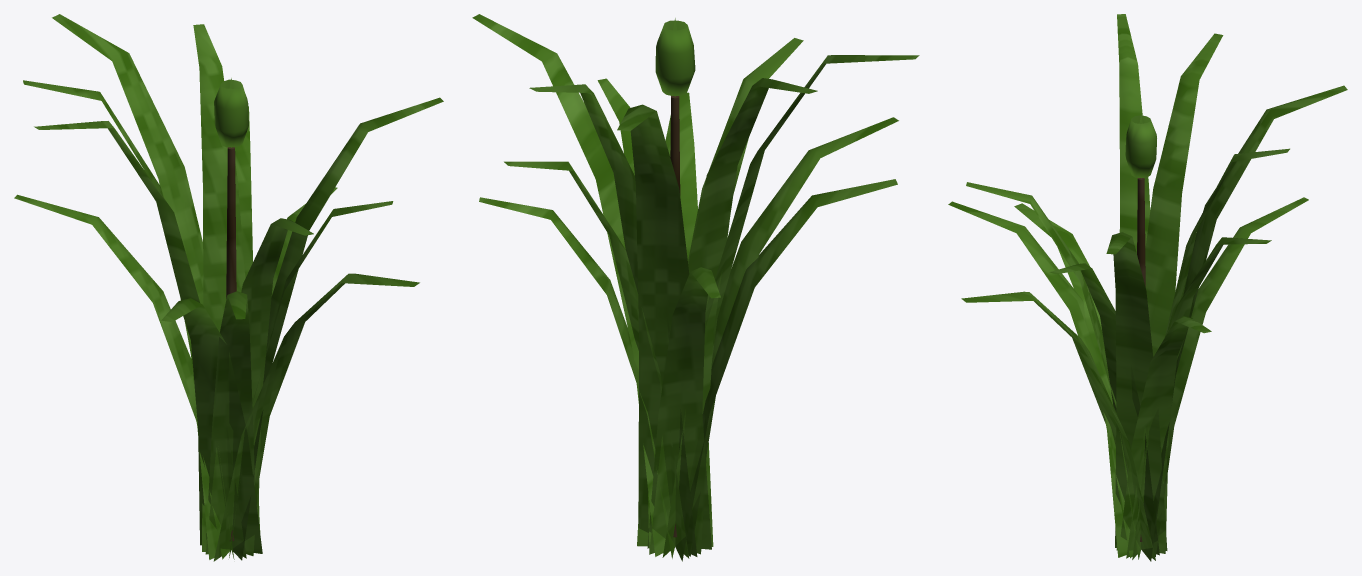
File: plant_wolf01-lod0.glb
3 views of the same model, side by side, from view 1: azimuth 30°, elevation 25°; view 2: azimuth 150°, elevation 25°; view 3: azimuth 270°, elevation 25° (orthographic). The views are drawn at different scales.
Visible parts, largest first — view 1: TZ_ground_plant_Batch_00_LOD0, TZ_ground_plant_Batch_01_LOD0; view 2: TZ_ground_plant_Batch_00_LOD0, TZ_ground_plant_Batch_01_LOD0; view 3: TZ_ground_plant_Batch_00_LOD0, TZ_ground_plant_Batch_01_LOD0.
Boxes of the visible parts, box(x1,y1,x2,y2) form: TZ_ground_plant_Batch_00_LOD0: box(14, 14, 443, 561); TZ_ground_plant_Batch_01_LOD0: box(226, 147, 236, 541); TZ_ground_plant_Batch_00_LOD0: box(472, 14, 919, 561); TZ_ground_plant_Batch_01_LOD0: box(670, 96, 680, 537); TZ_ground_plant_Batch_00_LOD0: box(948, 14, 1347, 561); TZ_ground_plant_Batch_01_LOD0: box(1137, 178, 1145, 541).
Bounding box in the file's own units: 0.7181 × 0.82 × 0.671.
2 materials, 2 textured.
